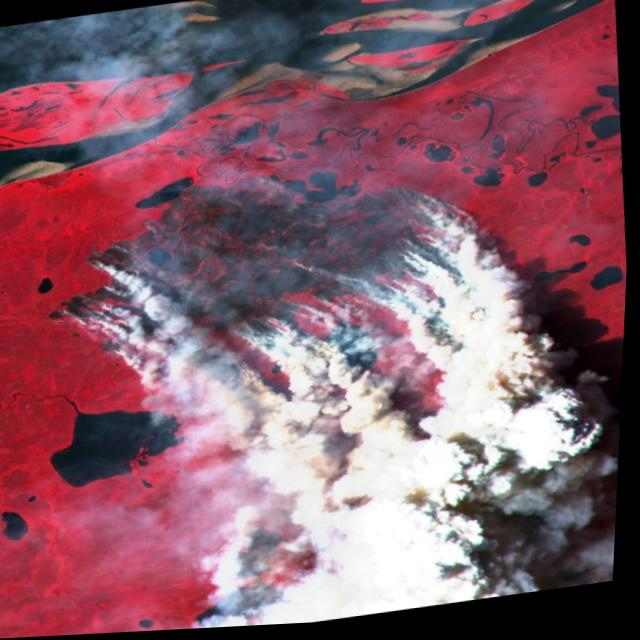fire: (27, 136, 488, 435)
